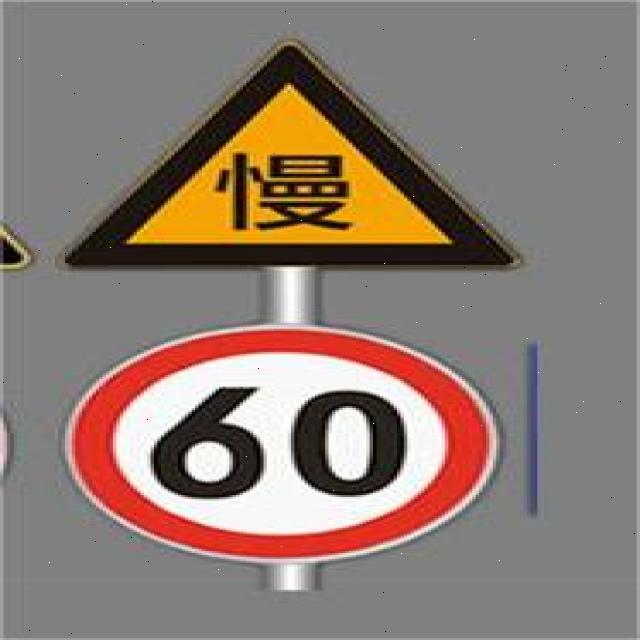speed limit 60: (59, 325, 503, 562)
